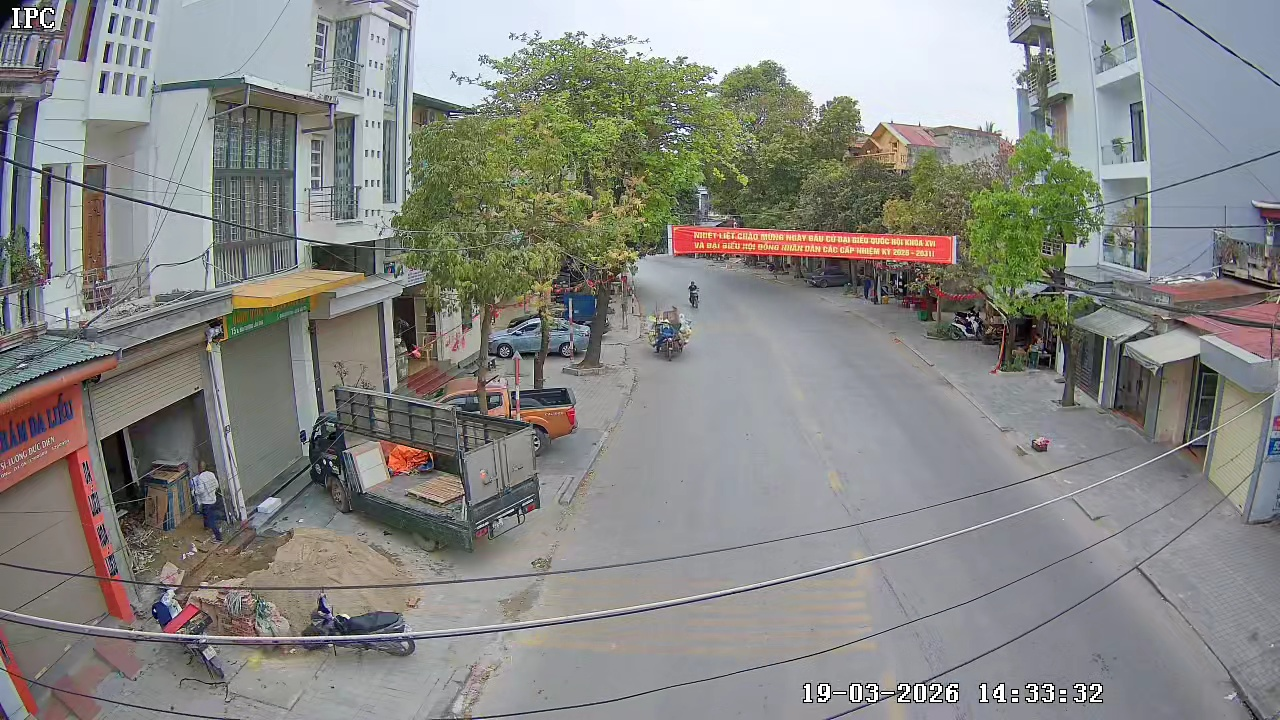car: (512, 384, 578, 451)
motorbike: (651, 312, 679, 360), (687, 279, 701, 309)
